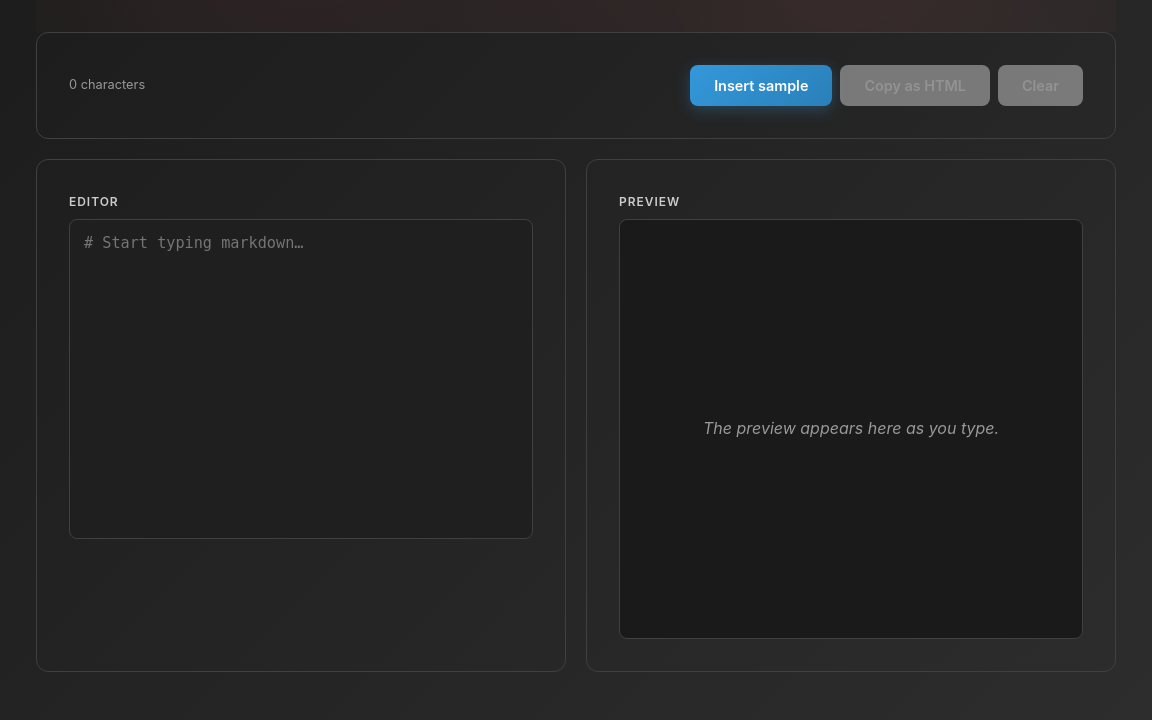
Test: <MarkdownPreview /> — basics › typing in the editor updates the preview
This screenshot has width=1152, height=720.
(page scrolled)
Step 1. Type "# Hello world" into the text box named "markdown editor" → (301, 379), box [69,219,533,539]
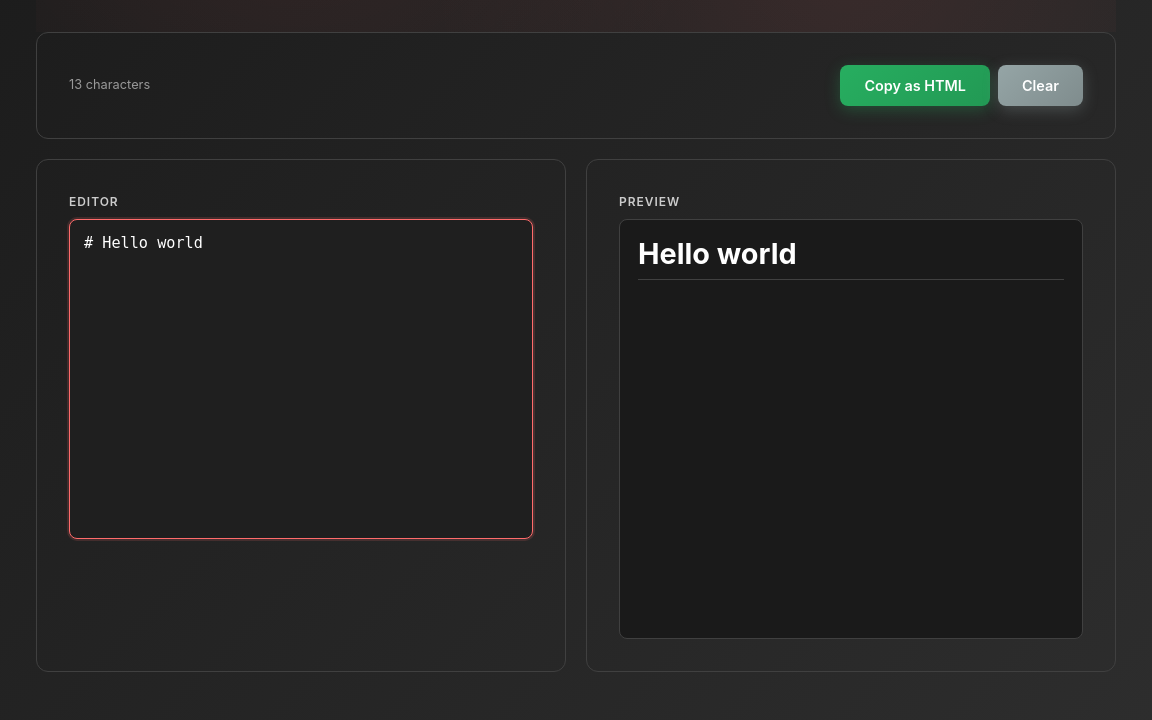
Check: the heading "Hello world" is shown, box [638,236,1064,280]
